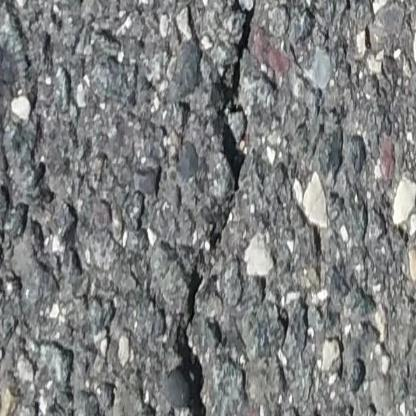Cracks: (174, 262, 213, 416), (218, 0, 260, 108), (220, 119, 252, 200)
